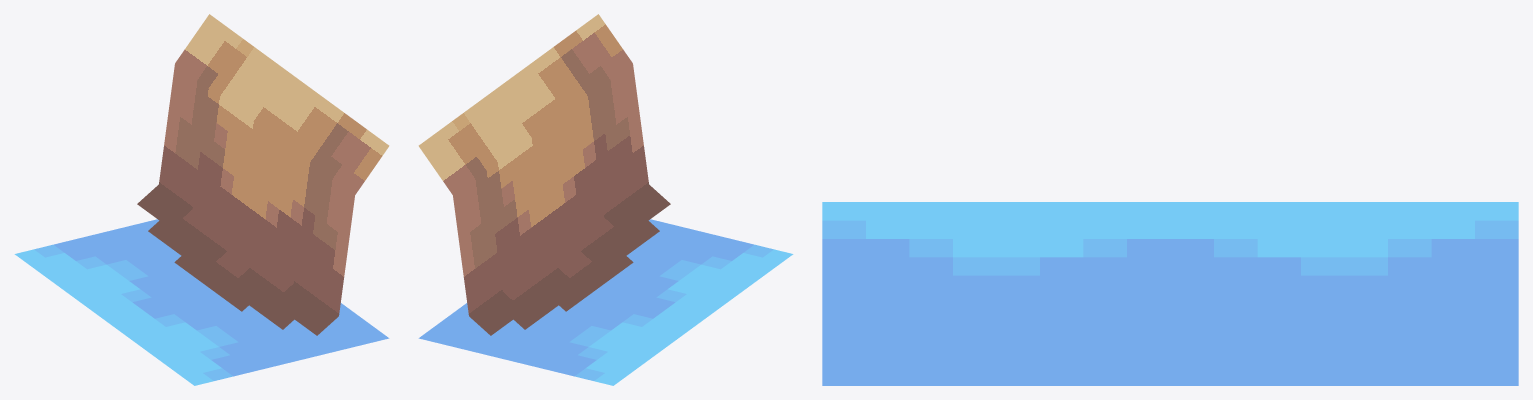
3 renders of one model, left to right at view 1: azimuth 30°, elevation 25°; view 2: azimuth 150°, elevation 25°; view 3: azimuth 270°, elevation 25°, orthographic. The views are drawn at different scales.
Bounding box in the file's own units: 0.625 × 0.5896 × 1.
2 materials, 2 textured.
